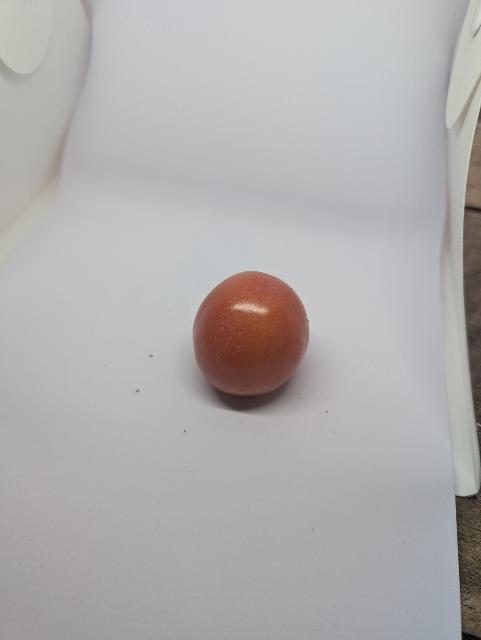red: (189, 270, 313, 398)
